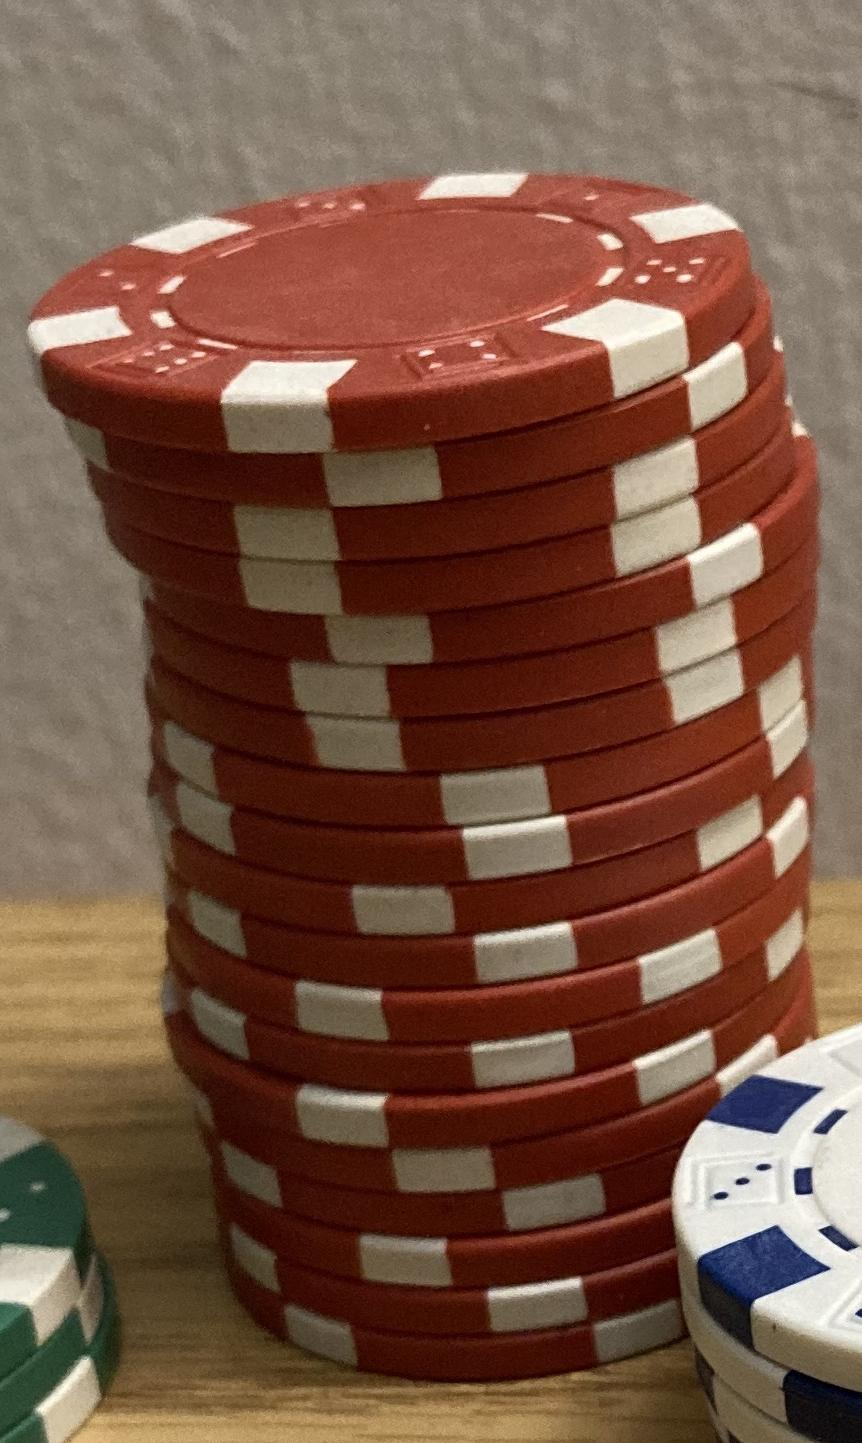Chip: (1, 1, 862, 1443)
